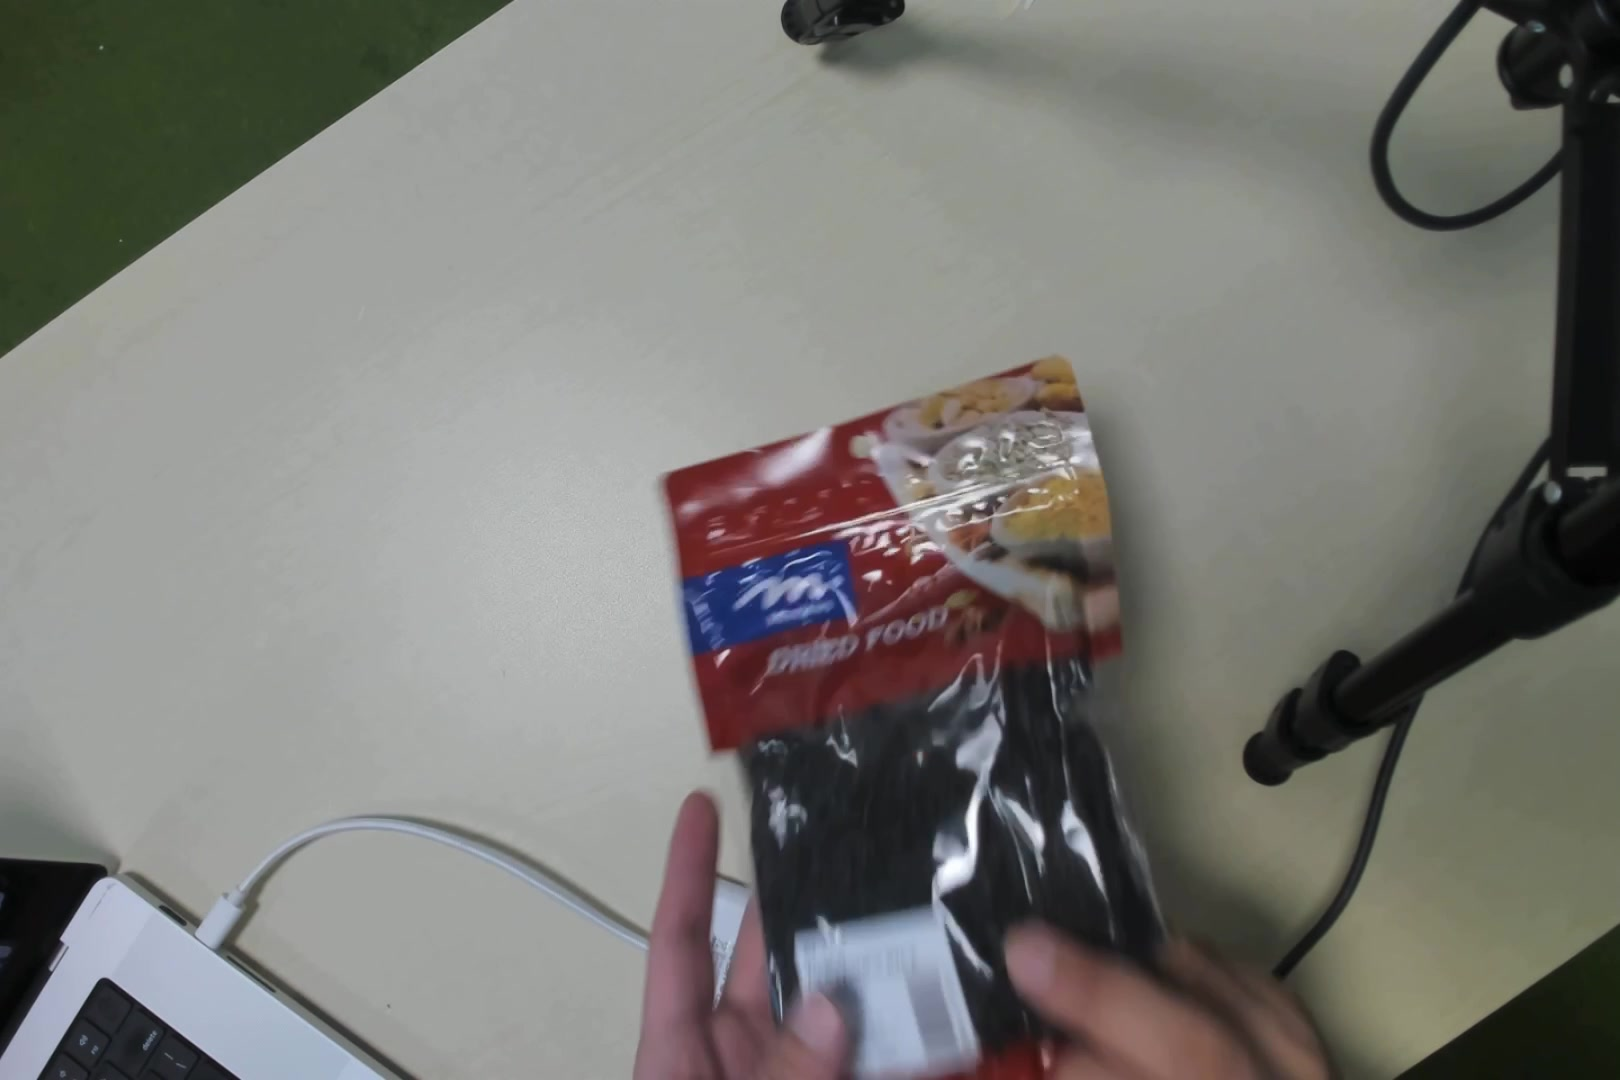OtherDriedFood_100-199g_NonHalal_NonHealthy: (700, 422, 1131, 1040)
